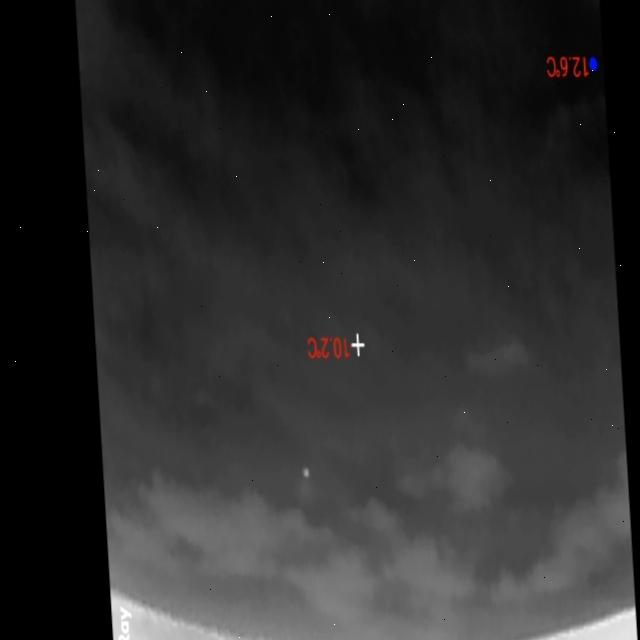drone: (297, 464, 305, 478)
